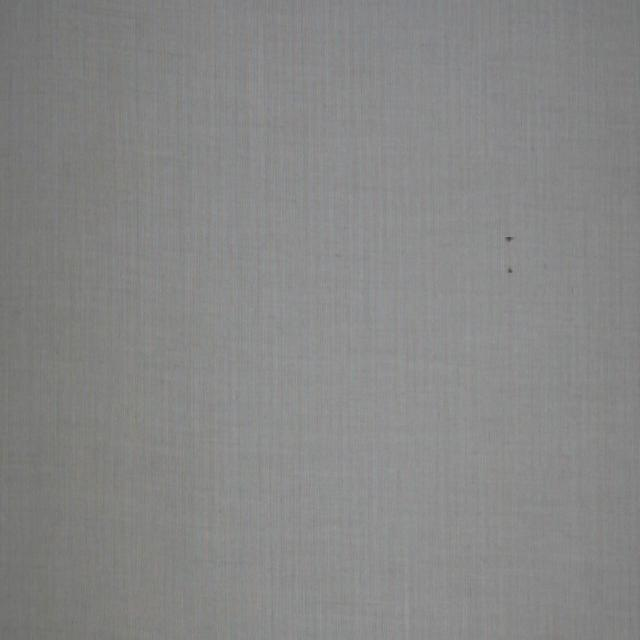dirty: (505, 237, 514, 240), (508, 268, 513, 273)
